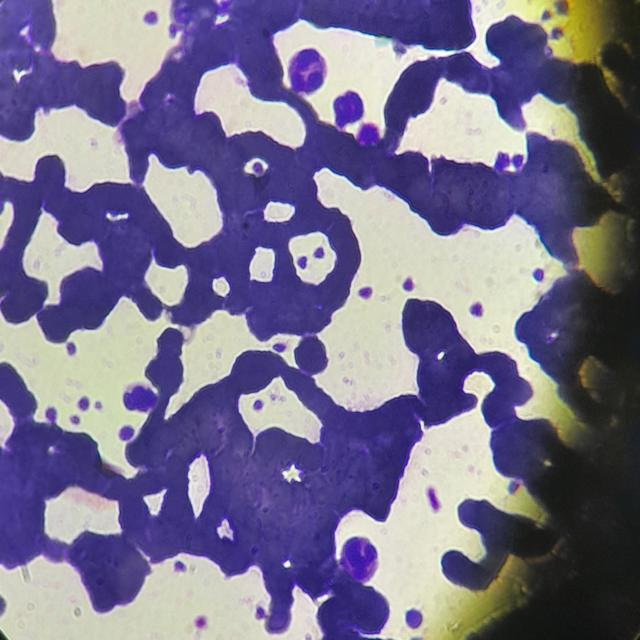Neutrofilo: (286, 44, 330, 99), (337, 532, 383, 584)
